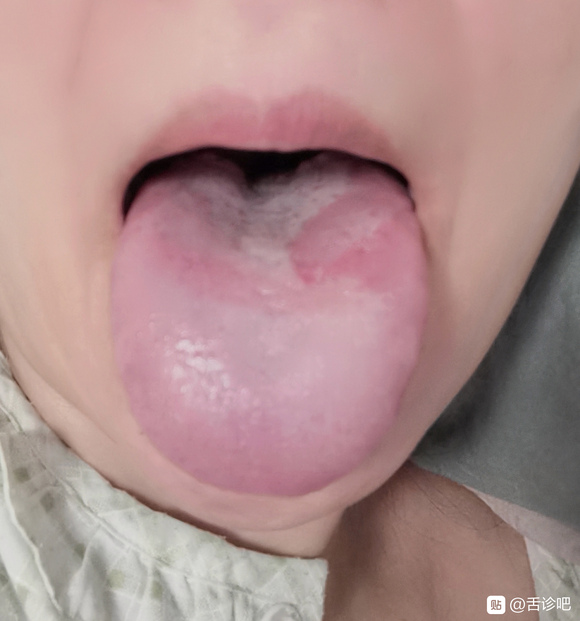baitaishe: (111, 153, 428, 498)
botaishe: (280, 164, 424, 303)
pangdashe: (111, 153, 428, 498)
shenquao: (200, 154, 333, 204)
